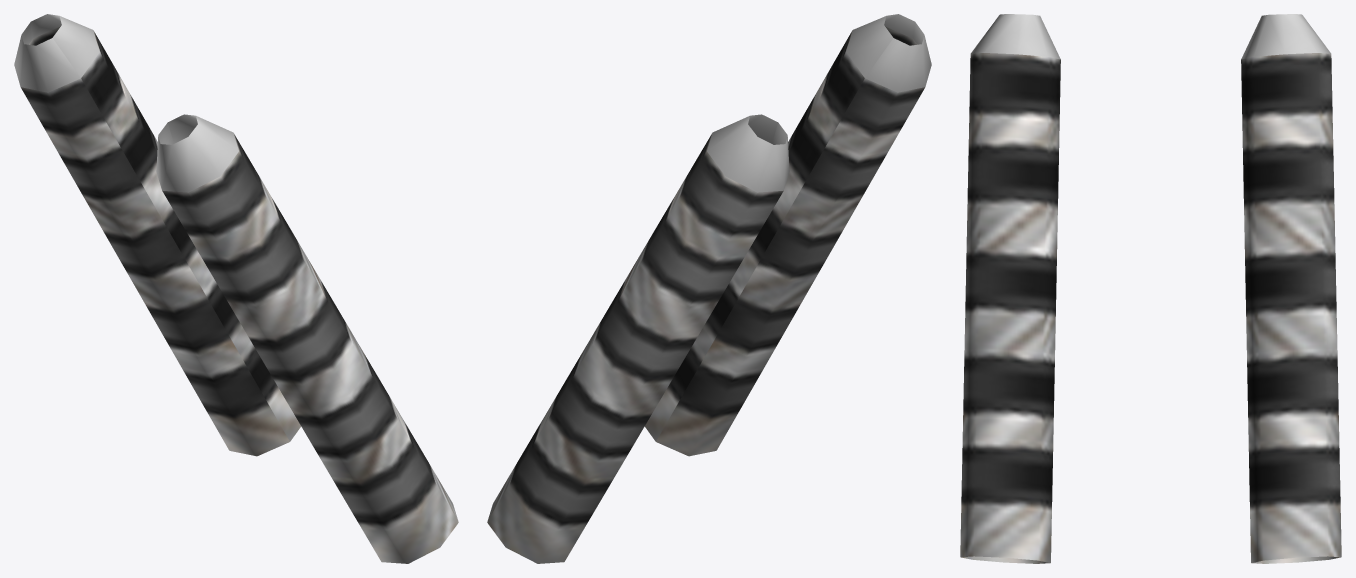
The model's file is Moto_front_suspension.FBX.
3 views of the same model, side by side, from view 1: azimuth 30°, elevation 25°; view 2: azimuth 150°, elevation 25°; view 3: azimuth 270°, elevation 25° (orthographic). The views are drawn at different scales.
Visible parts, largest first — view 1: suspensie; view 2: suspensie; view 3: suspensie.
Boxes of the visible parts, x1,y1,x2,y2 form: suspensie: (14, 14, 458, 563); suspensie: (487, 14, 931, 563); suspensie: (960, 14, 1341, 563).
Size of the model in its own units: 16.44 by 26.56 by 19.75.
1 material, 1 textured.
